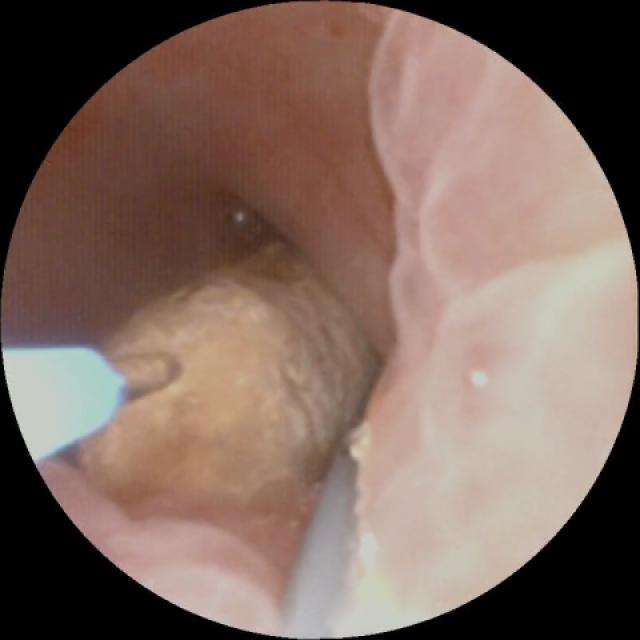fiber: (9, 350, 120, 457)
stone: (78, 241, 381, 506)
tissue: (7, 19, 623, 615)
